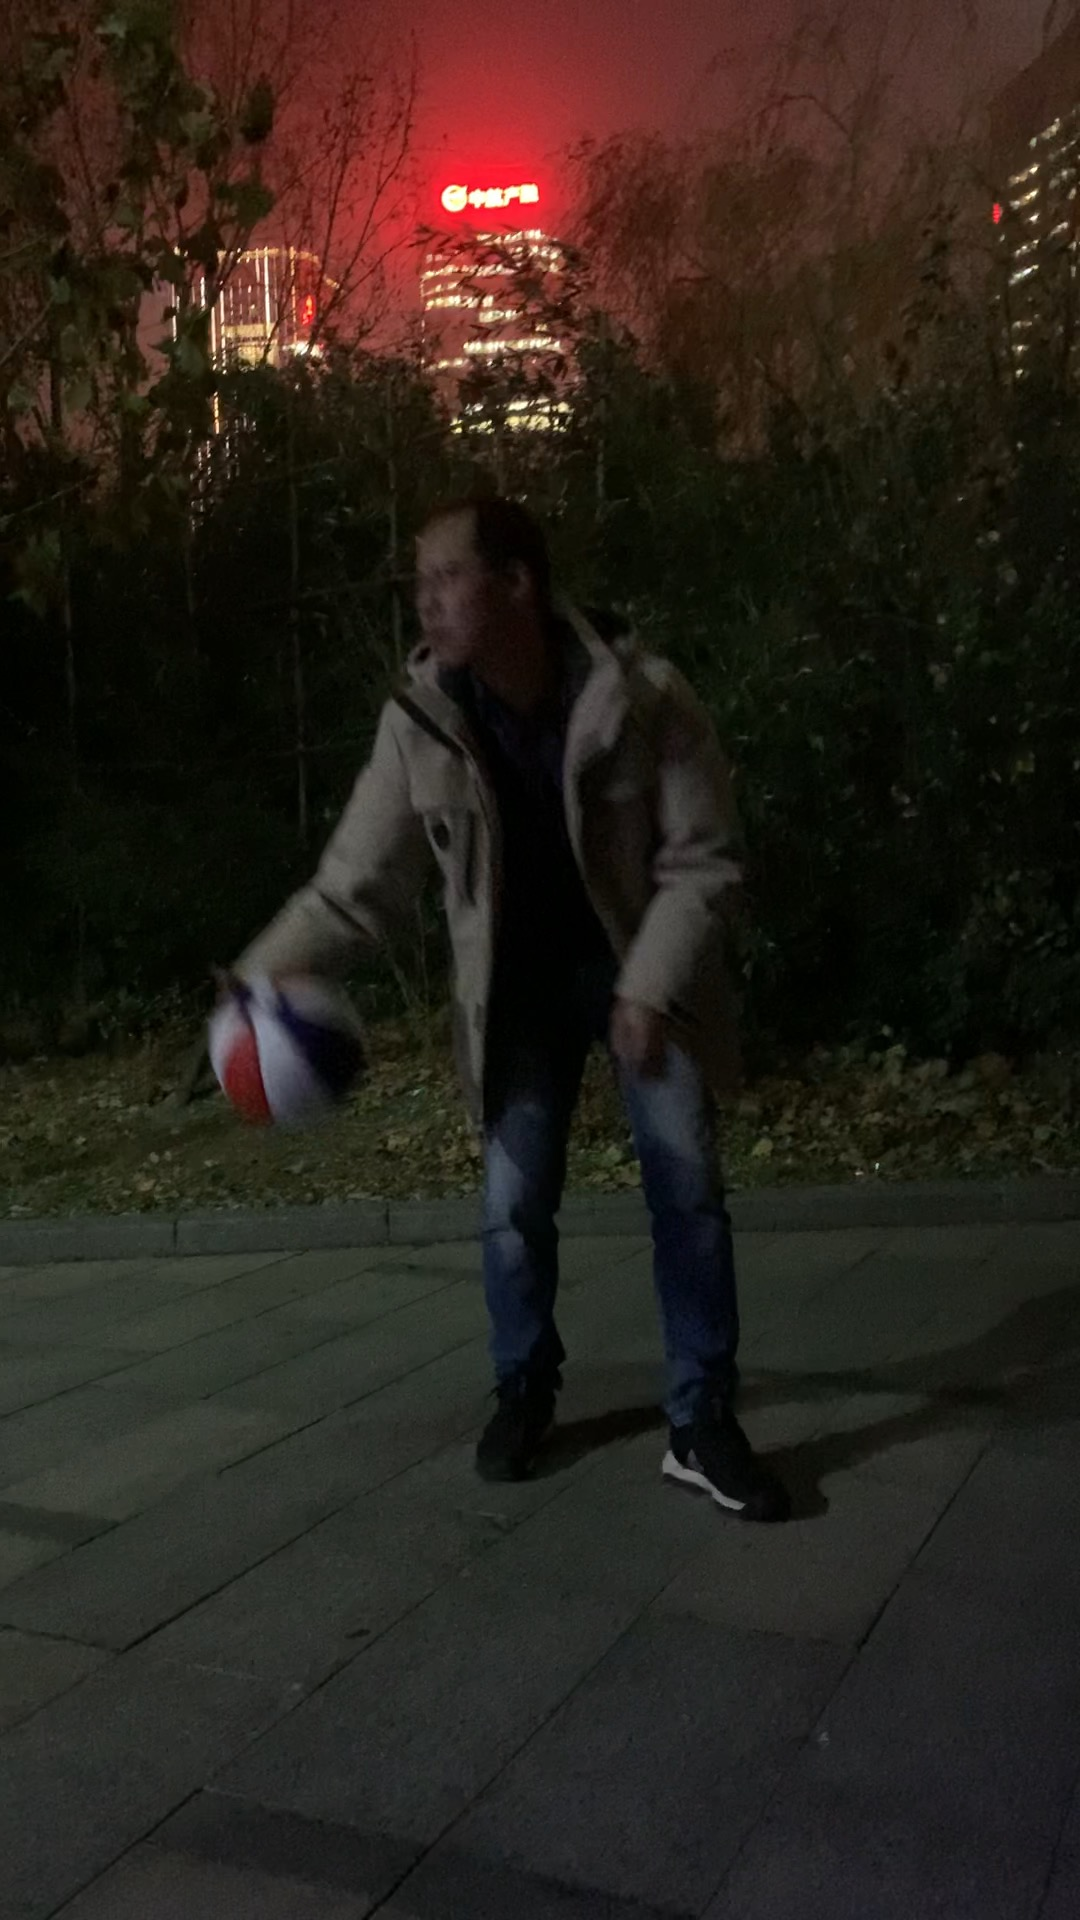ball: (204, 976, 373, 1131)
